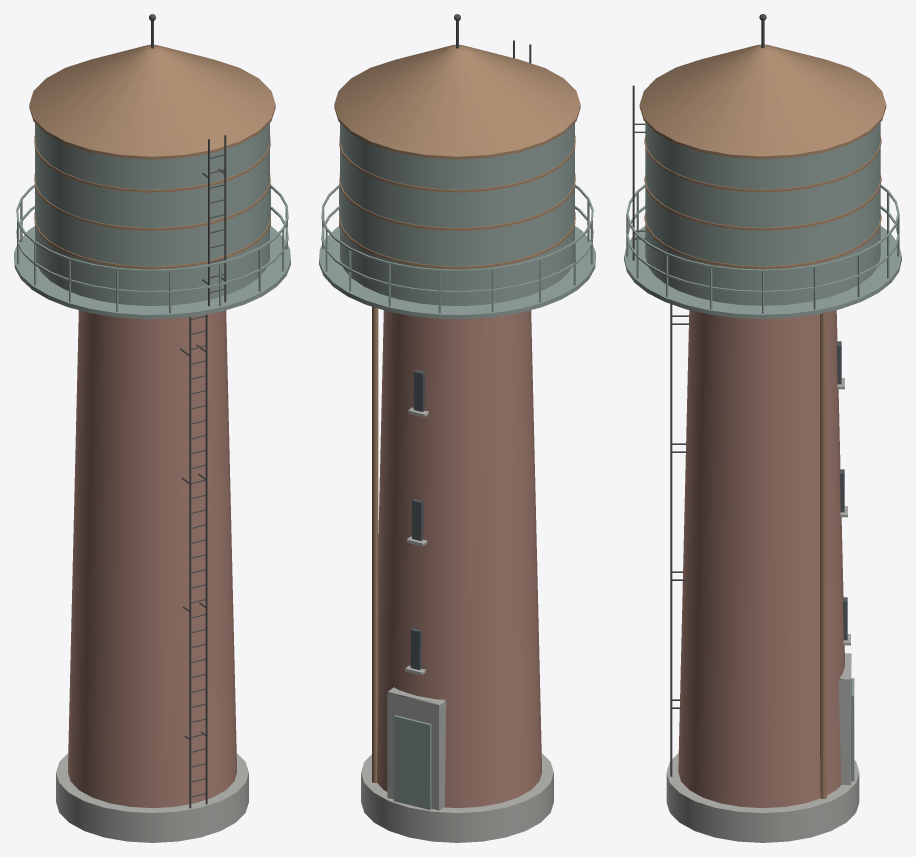
File: water_tower.glb
3 renders of one model, left to right at view 1: azimuth 30°, elevation 25°; view 2: azimuth 150°, elevation 25°; view 3: azimuth 270°, elevation 25°, orthographic.
Parts seen in each view (by area): view 1: static; view 2: static; view 3: static.
Part boxes in pixels (x1,y1,x2,y2): static: (14,14,290,842); static: (319,14,595,842); static: (624,14,901,842).
Size of the model in its own units: 5.9 by 18.48 by 5.9.
